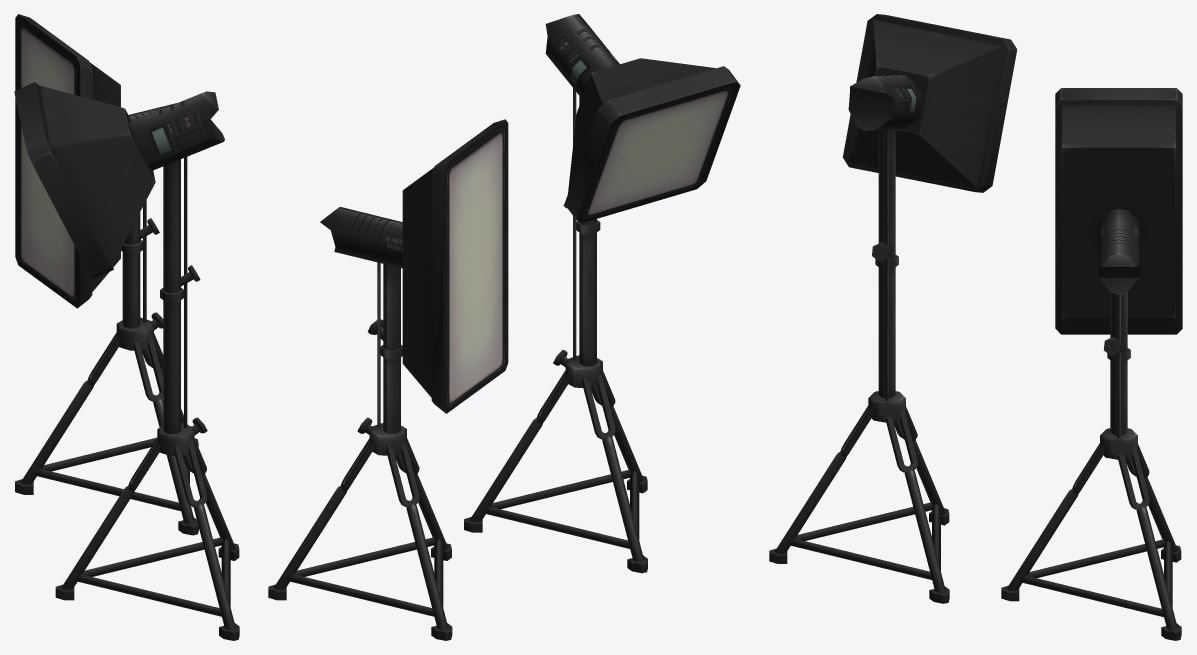
Rendered from furn_syp2017_deco_001.gltf.
3 views of the same model, side by side, from view 1: azimuth 30°, elevation 25°; view 2: azimuth 150°, elevation 25°; view 3: azimuth 270°, elevation 25° (orthographic). The views are drawn at different scales.
Visible parts, largest first — view 1: syp2017_deco_001; view 2: syp2017_deco_001; view 3: syp2017_deco_001.
Boxes of the visible parts, box(x1,y1,x2,y2) form: syp2017_deco_001: box(14, 14, 239, 640); syp2017_deco_001: box(268, 14, 740, 640); syp2017_deco_001: box(769, 14, 1182, 640).
Bounding box in the file's own units: 0.6312 × 0.9504 × 0.7213.
Materials: 1 (1 with a texture image).
